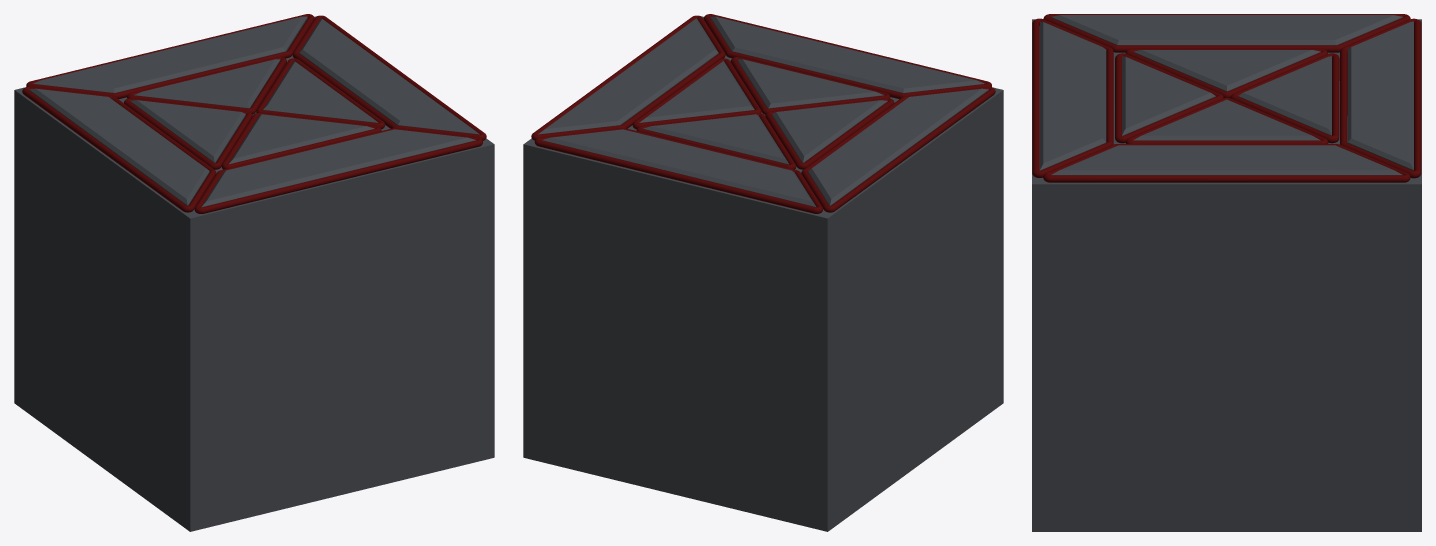
Rendered from CastleFloor.fbx.
3 renders of one model, left to right at view 1: azimuth 30°, elevation 25°; view 2: azimuth 150°, elevation 25°; view 3: azimuth 270°, elevation 25°, orthographic. The views are drawn at different scales.
Parts seen in each view (by area): view 1: CastleFloor; view 2: CastleFloor; view 3: CastleFloor.
Boxes of the visible parts, left/top/right/bottom form: CastleFloor: left=14, top=14, right=494, bottom=531; CastleFloor: left=523, top=14, right=1003, bottom=531; CastleFloor: left=1032, top=14, right=1421, bottom=531.
Size of the model in its own units: 200 by 202 by 200.
